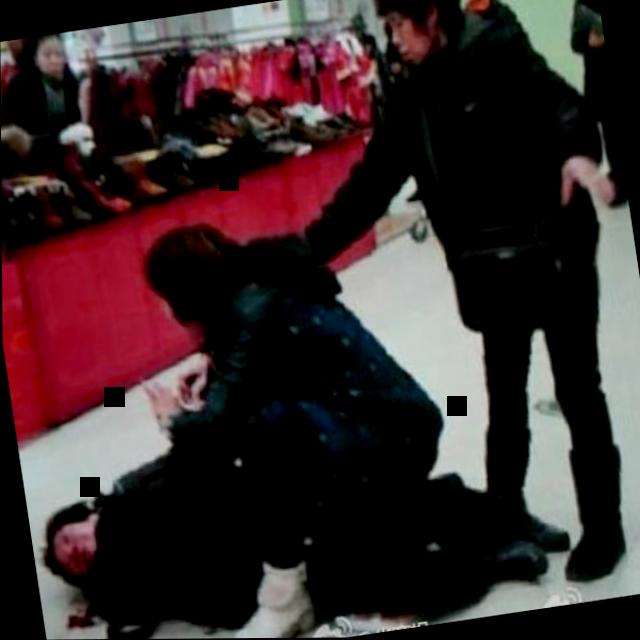Fall-Detected: (13, 349, 555, 640)
